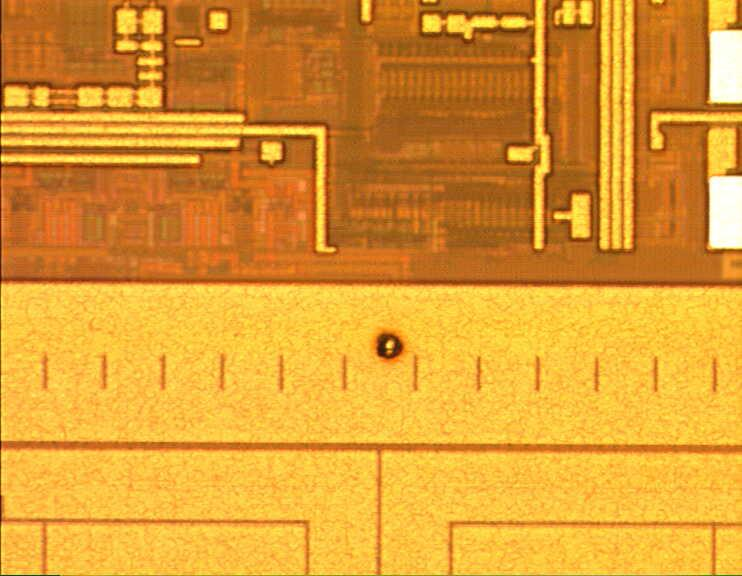PIQ PARTICLE: (369, 324, 413, 368)
